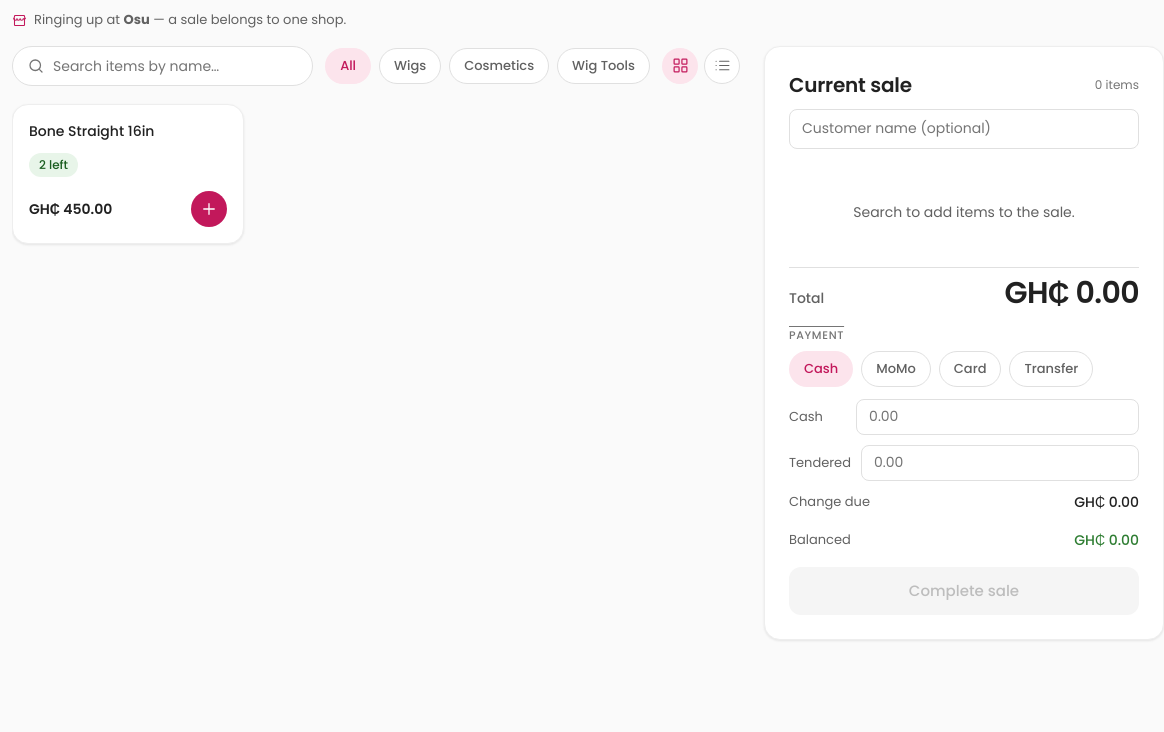
Test: SellView — background stock refresh and clamping (#31) › insufficient_stock clamps the cart to what's left, says so, and re-reads the Shop
Later steps or results of the test are not shown.
Click the button named "Add Bone Straight 16in" at (209, 209), box [191,191,227,227]
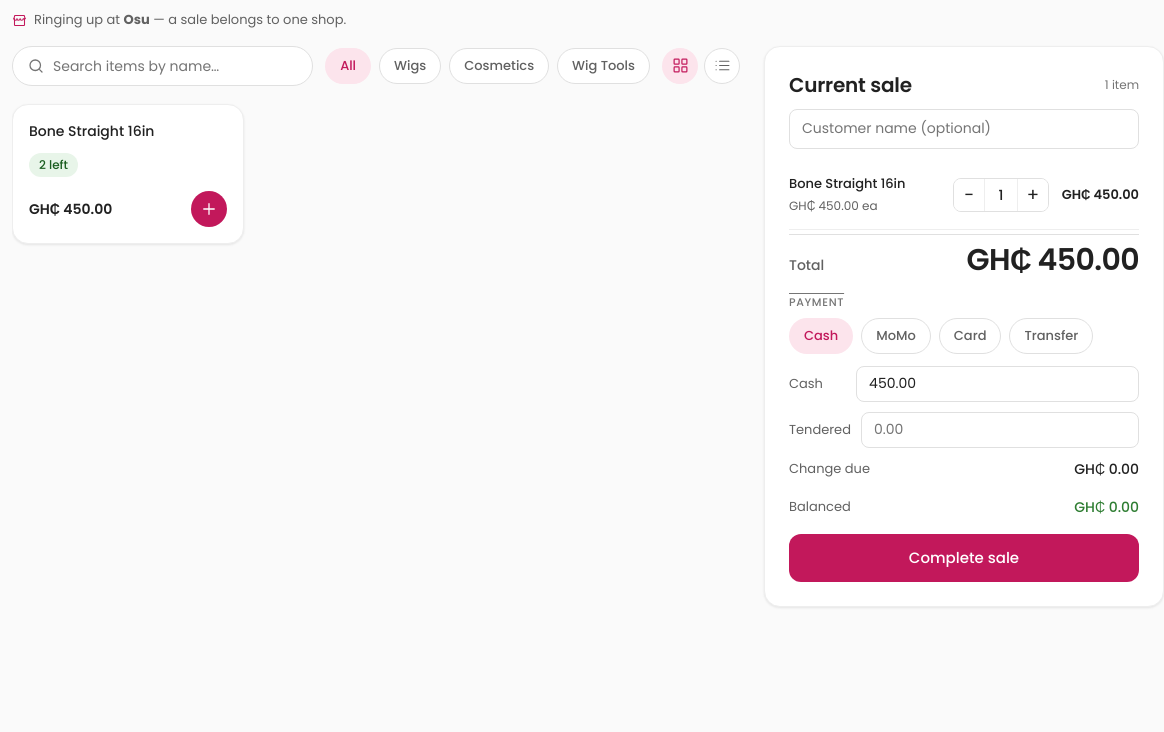
Click the button named "Add Bone Straight 16in" at (209, 209), box [191,191,227,227]
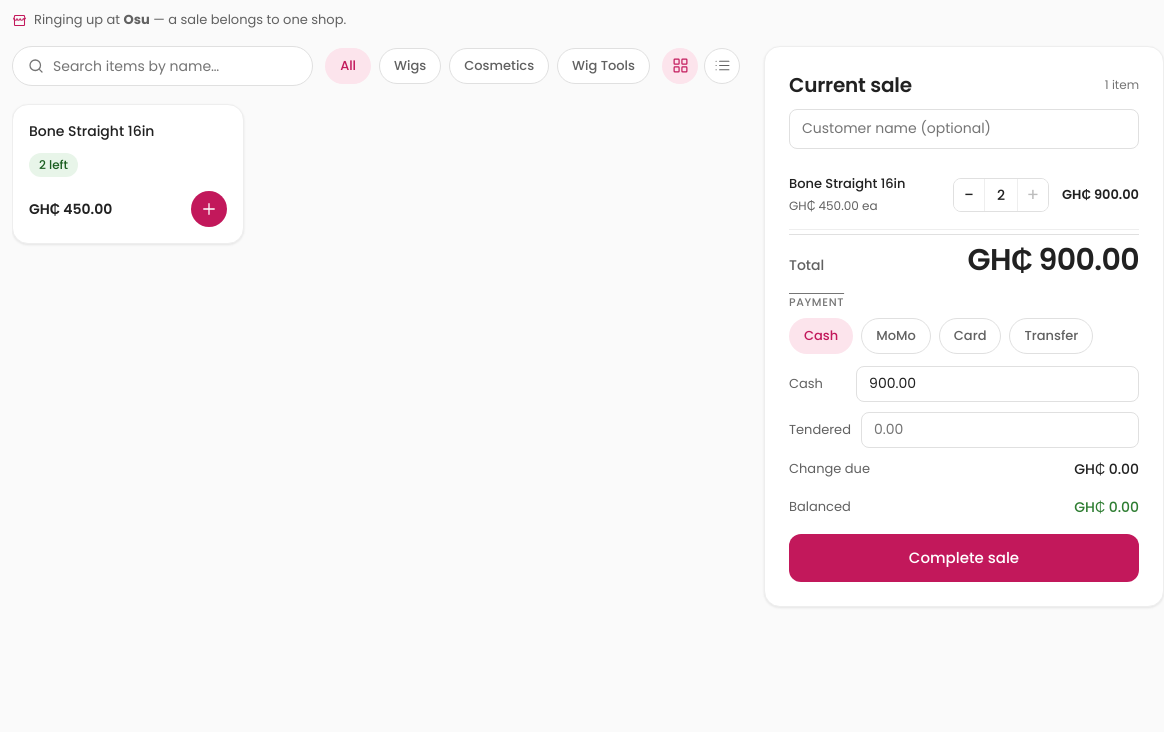
Click the button "Complete sale" at (964, 558), box [789,534,1139,582]
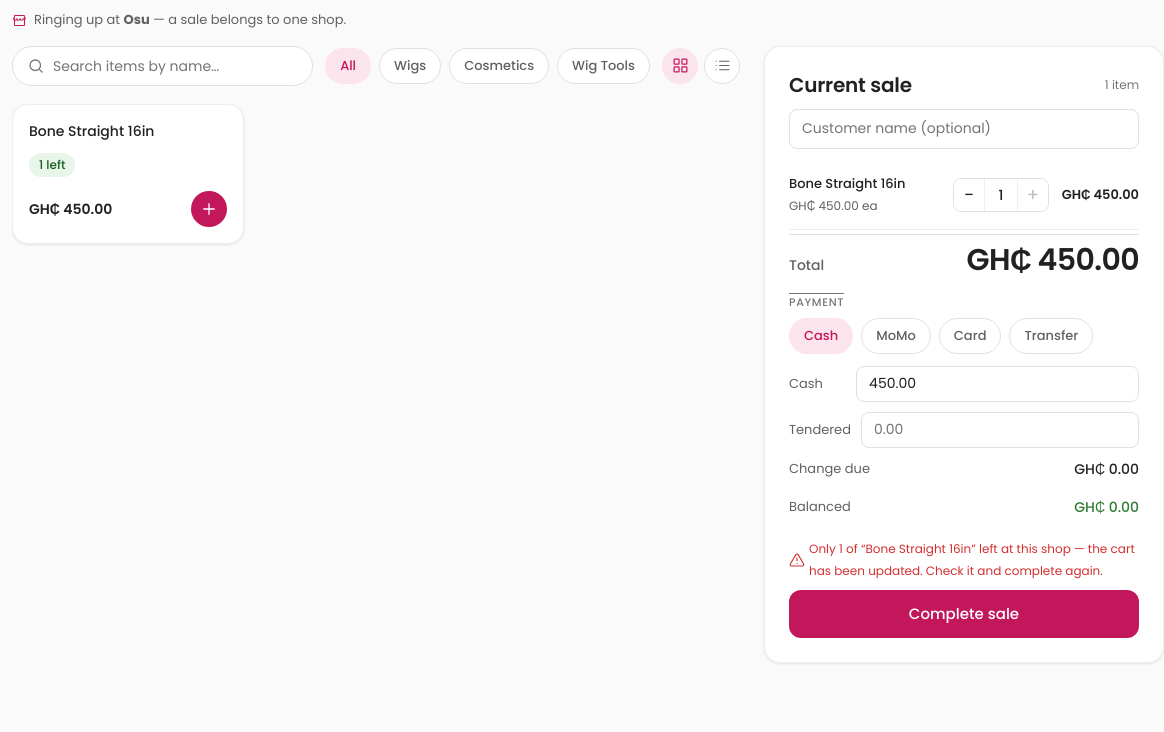
Result: the text "1 left" is shown at [29,153,75,177]
Result: the text "1" is shown at [984,179,1018,211]
